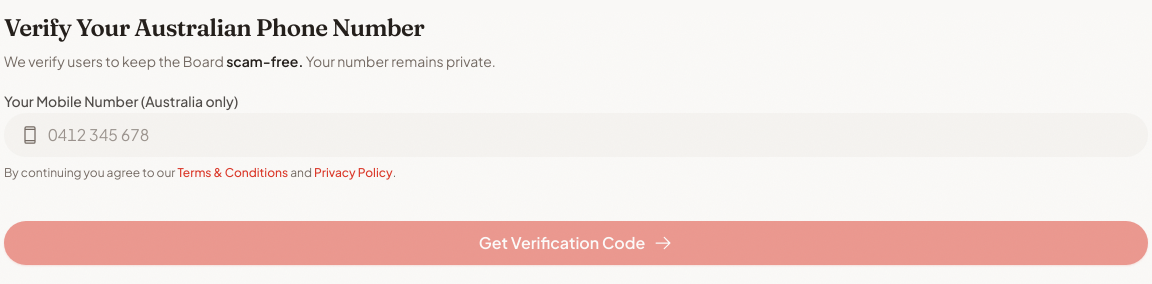
Test: SmsOtpSignIn › Send OTP Functionality › should transition to step 2 after sending code
In the field with placeholder "0412 345 678": [576, 135] box x1=4 y1=113 x2=1148 y2=157, type "0412345678"
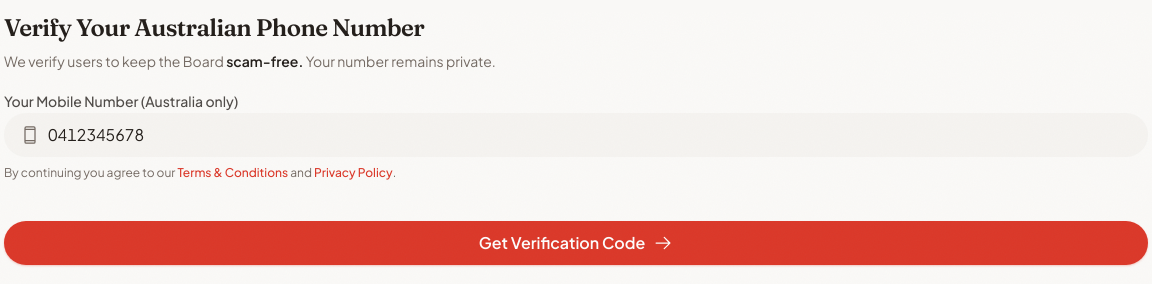
Click the button "Get Verification Code": [576, 243] box x1=4 y1=221 x2=1148 y2=265
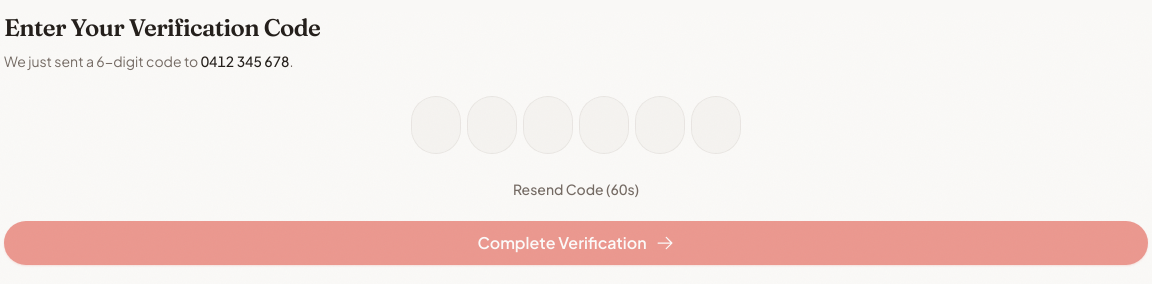
Check: the heading "Enter Your Verification Code" is shown, box x1=4 y1=13 x2=320 y2=42
